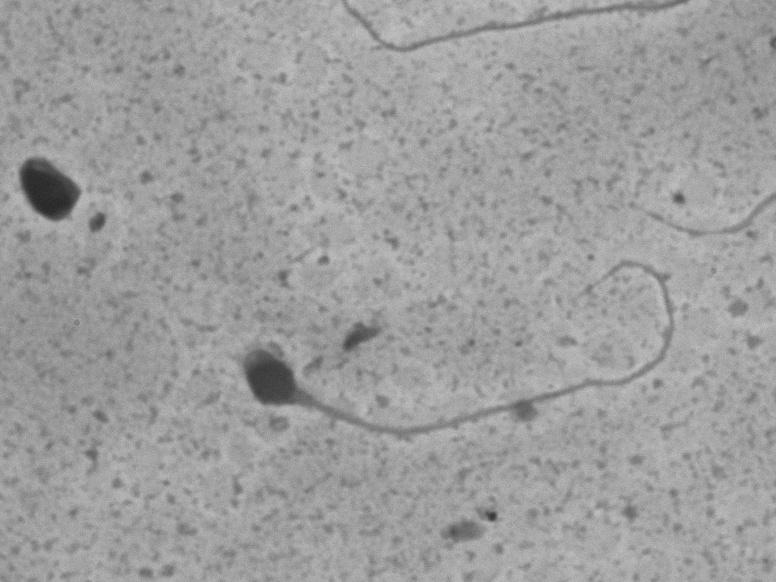Abnormal: (208, 233, 702, 452)
